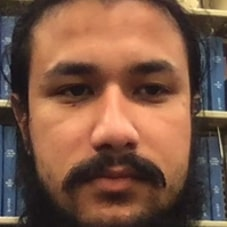awake: (42, 48, 183, 219)
